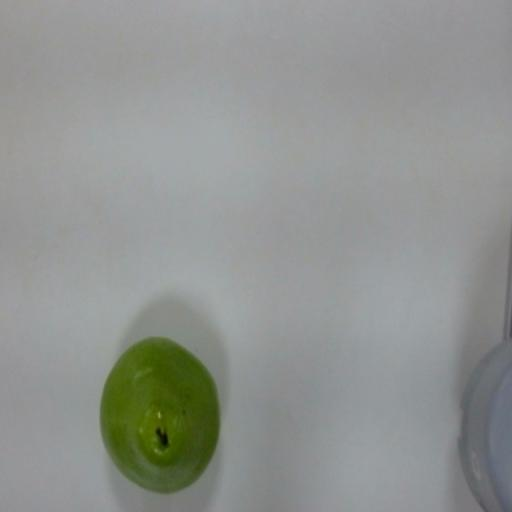Unripe: (96, 328, 233, 492)
